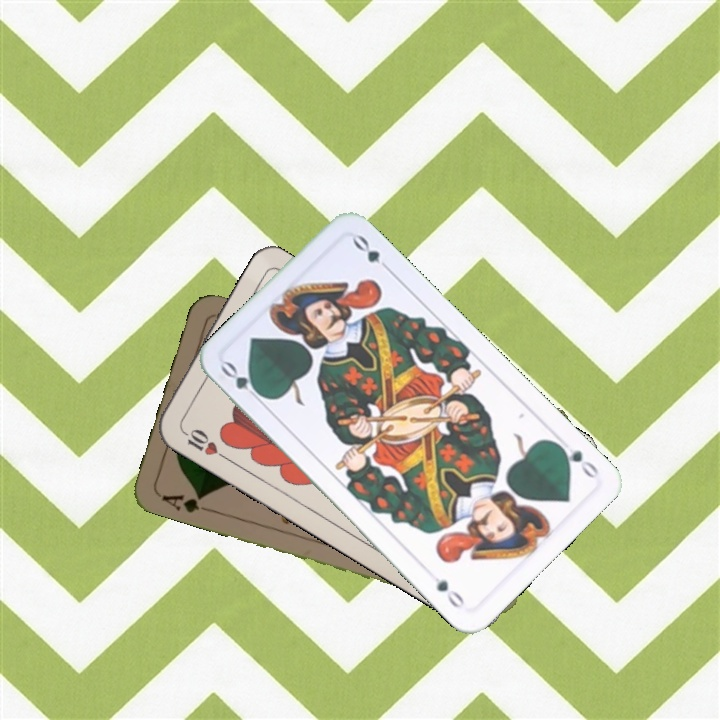GA: (157, 490, 214, 516)
GO: (216, 357, 268, 406), (552, 438, 601, 482)
H10: (176, 423, 229, 462)
